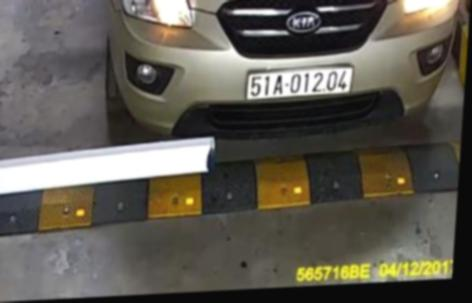License_Plate: (242, 61, 359, 104)
